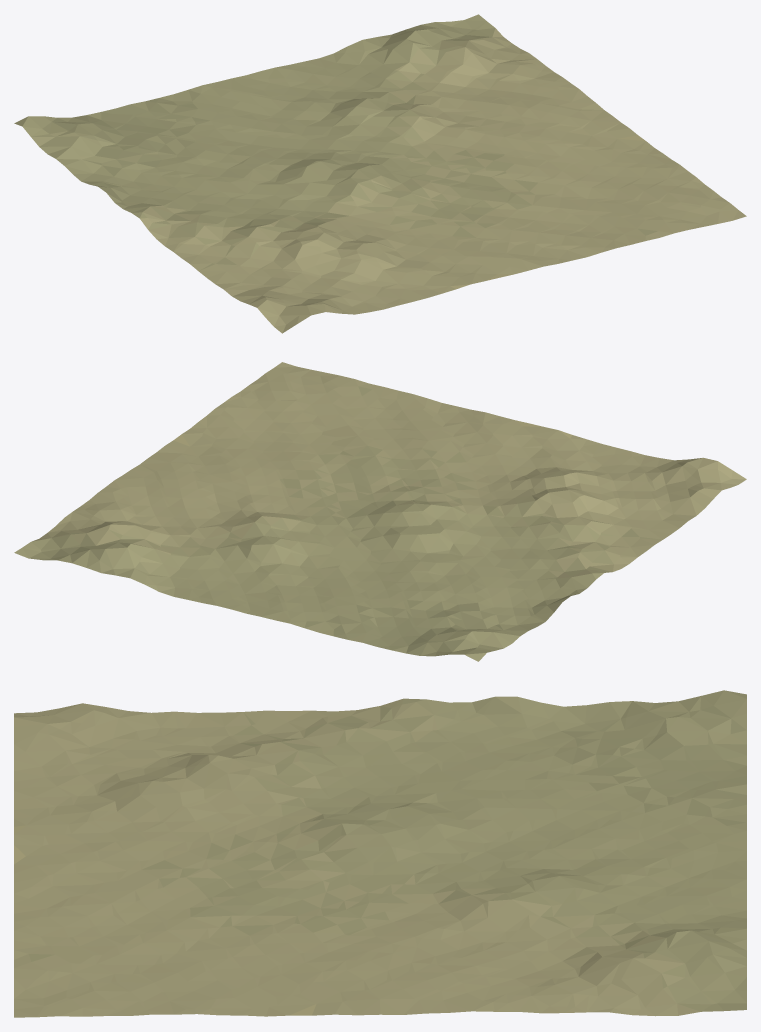
File: Ground_5_3.glb
3 views of the same model, one above another, from view 1: azimuth 30°, elevation 25°; view 2: azimuth 150°, elevation 25°; view 3: azimuth 270°, elevation 25° (orthographic). The views are drawn at different scales.
Visible parts, largest first — view 1: Ground_5_3; view 2: Ground_5_3; view 3: Ground_5_3.
Boxes of the visible parts, x1,y1,x2,y2 form: Ground_5_3: [14, 14, 746, 333]; Ground_5_3: [14, 362, 746, 661]; Ground_5_3: [14, 690, 746, 1017].
Bounding box in the file's own units: 768 × 36.44 × 768.
